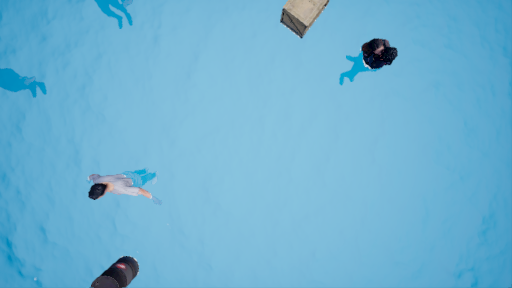person: (334, 33, 397, 91), (81, 165, 169, 206)
